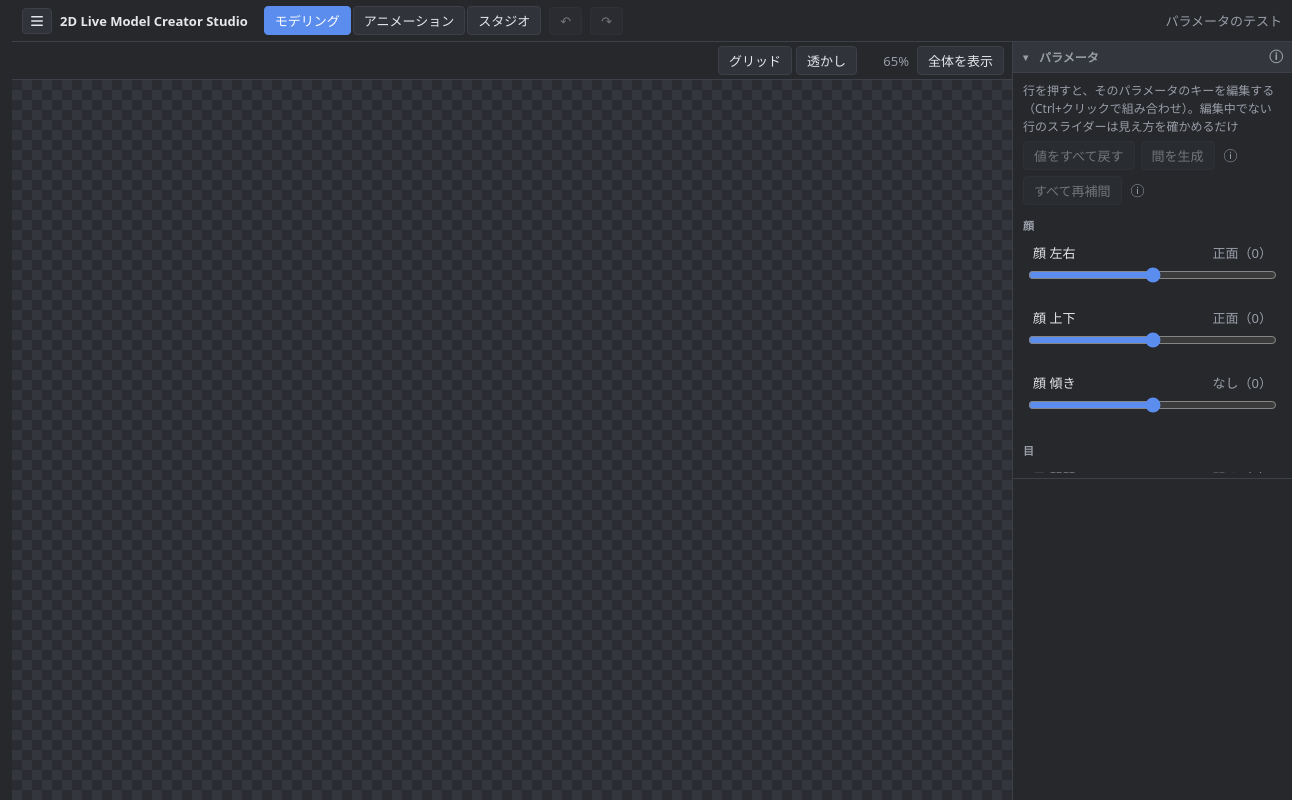
パラメータパネル › 編集中でない行のスライダーはプレビューだけ（編集中のパラメータもほかの値も変えない。I-028）
Click the button "顔 左右 正面（0）" at (1152, 252), box [1028,240,1277,265]
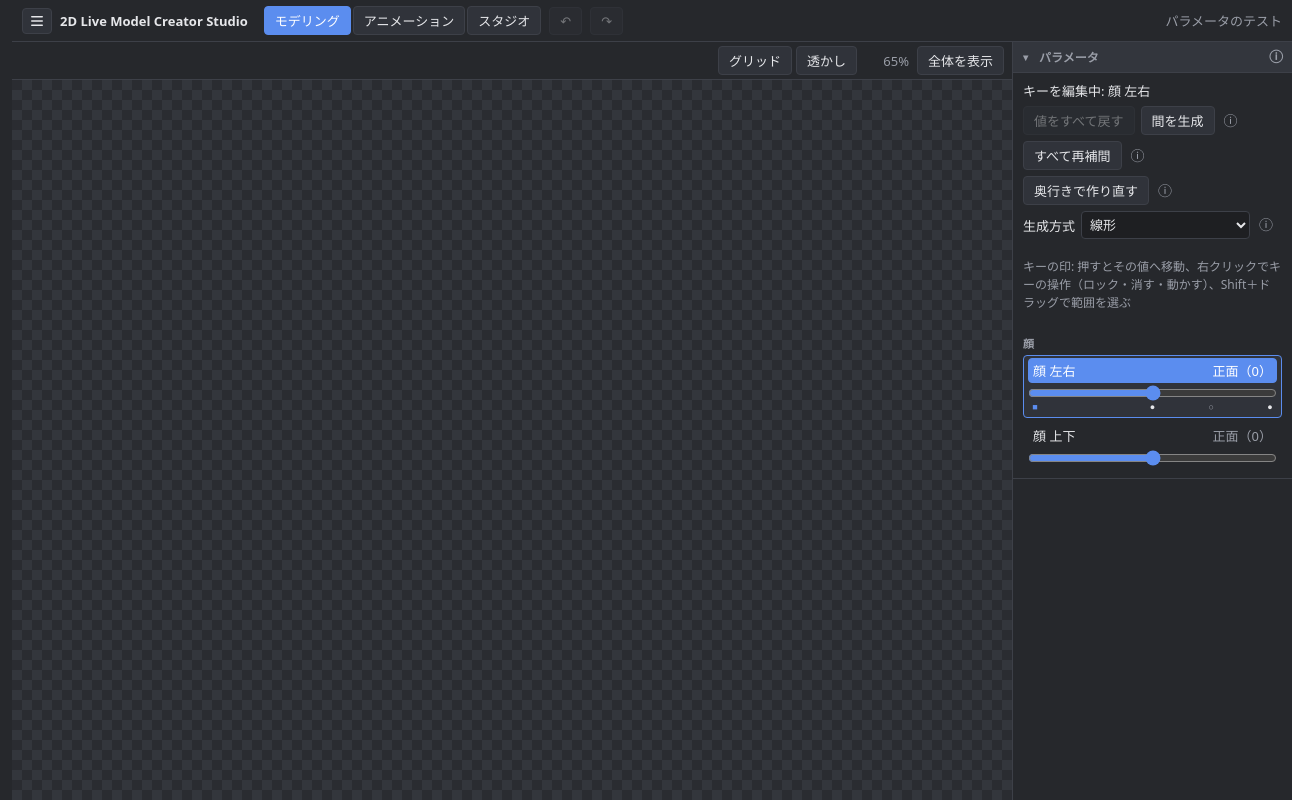
Set the slider named "顔 左右" to "30" at (1269, 393), box [1028,385,1277,401]
(page scrolled)
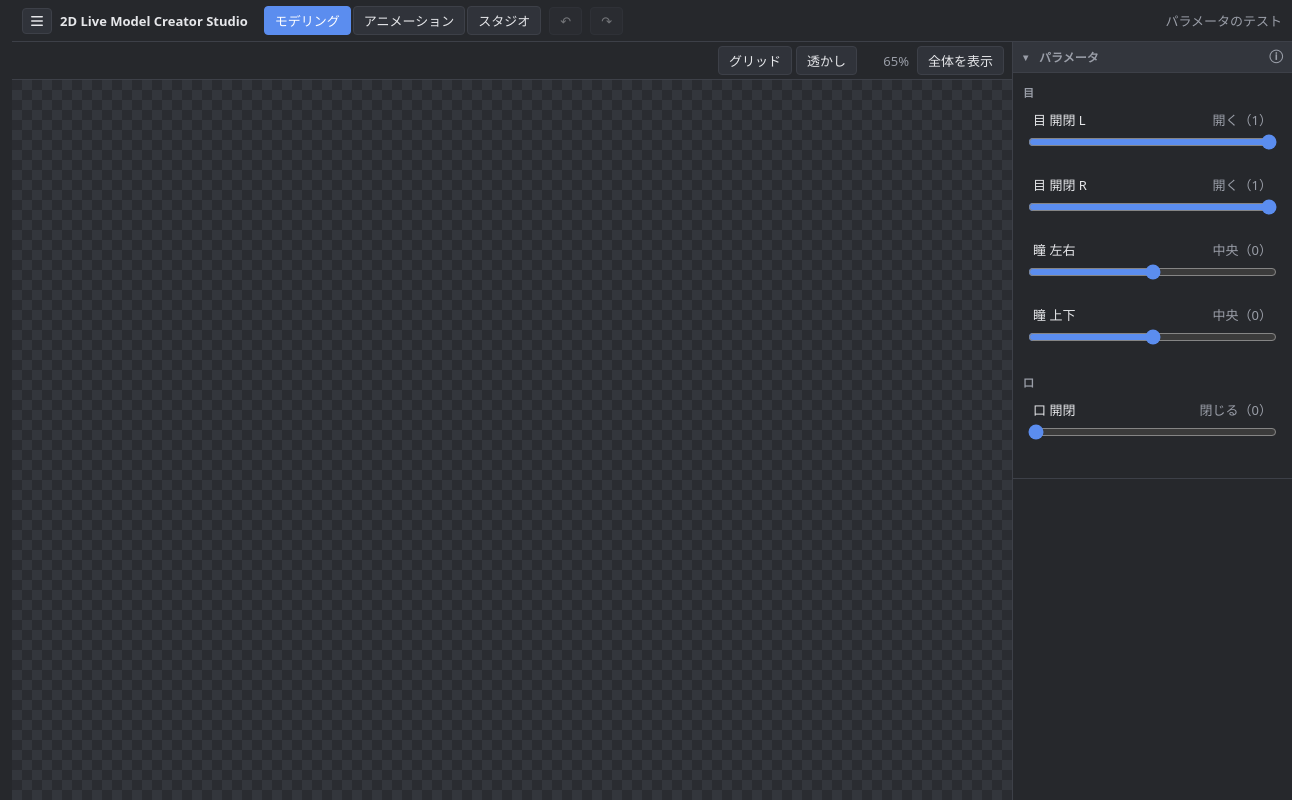
Set the slider named "口 開閉" to "0.6" at (1176, 432), box [1028,424,1277,440]
(page scrolled)
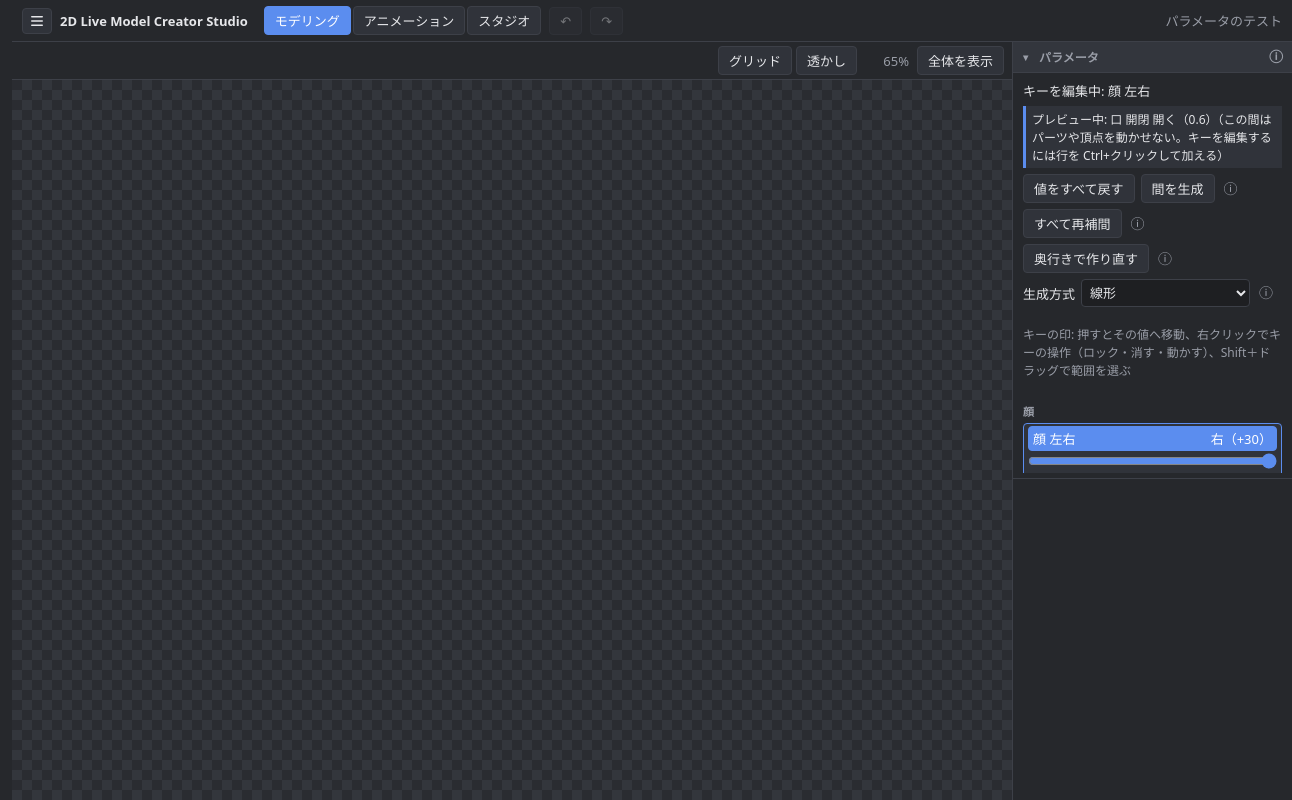
Check: the text "プレビュー中: 口 開閉 開く（0.6）（この間はパーツや頂点を動かせない。キーを編集するには行を Ctrl+クリックして加える）" is shown, box [1023,106,1282,168]
［値をすべて戻す］で値だけを戻す（編集中のパラメータはそのまま。I-047）
Click the button "値をすべて戻す" at (1079, 188), box [1023,174,1135,203]
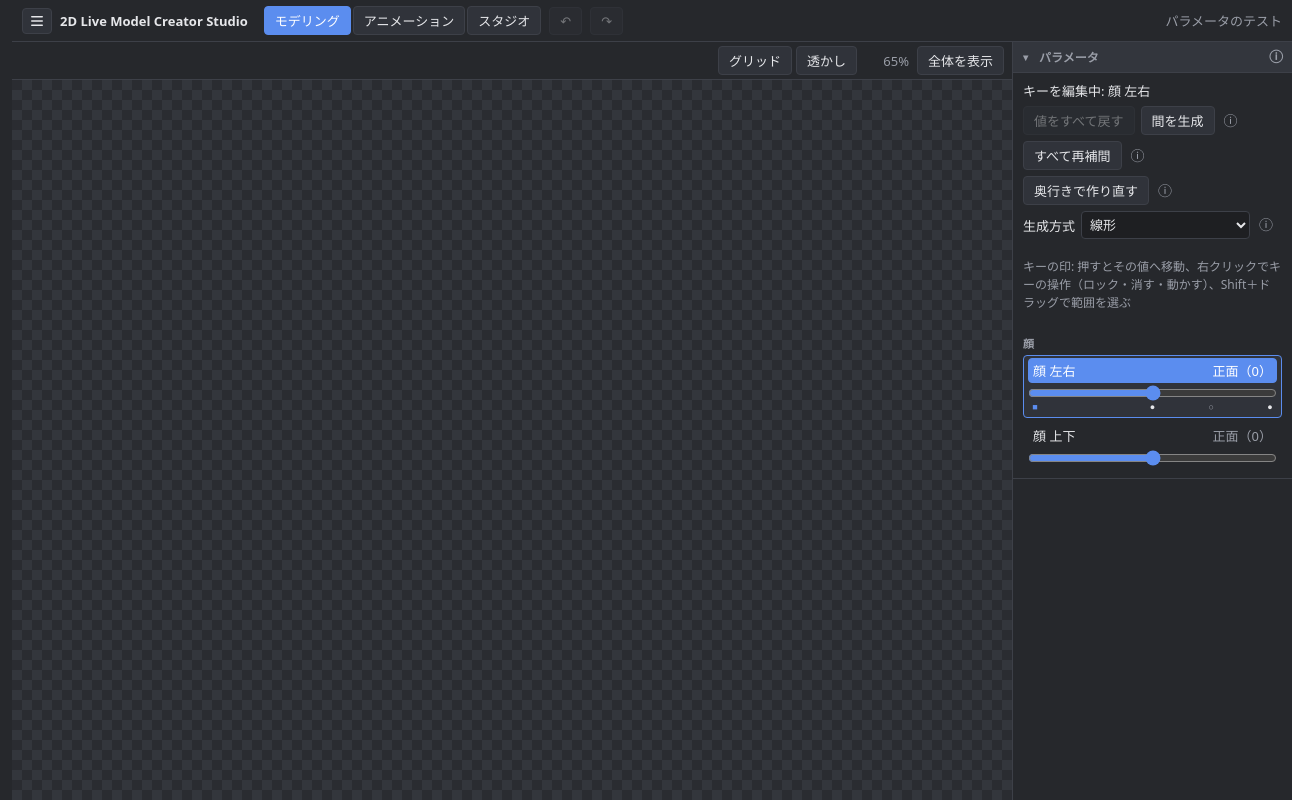
Check: the text "プレビュー中:" is gone
Check: the button "値をすべて戻す" is disabled, box [1023,106,1135,135]
